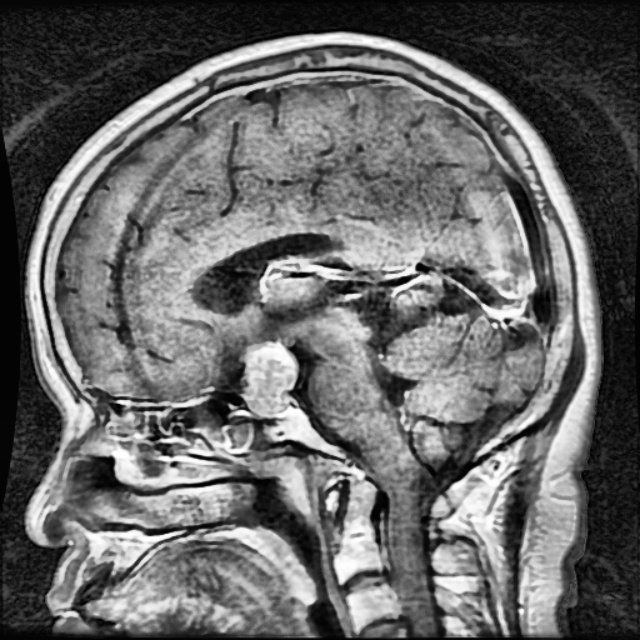Pituitary: (245, 339, 295, 413)
